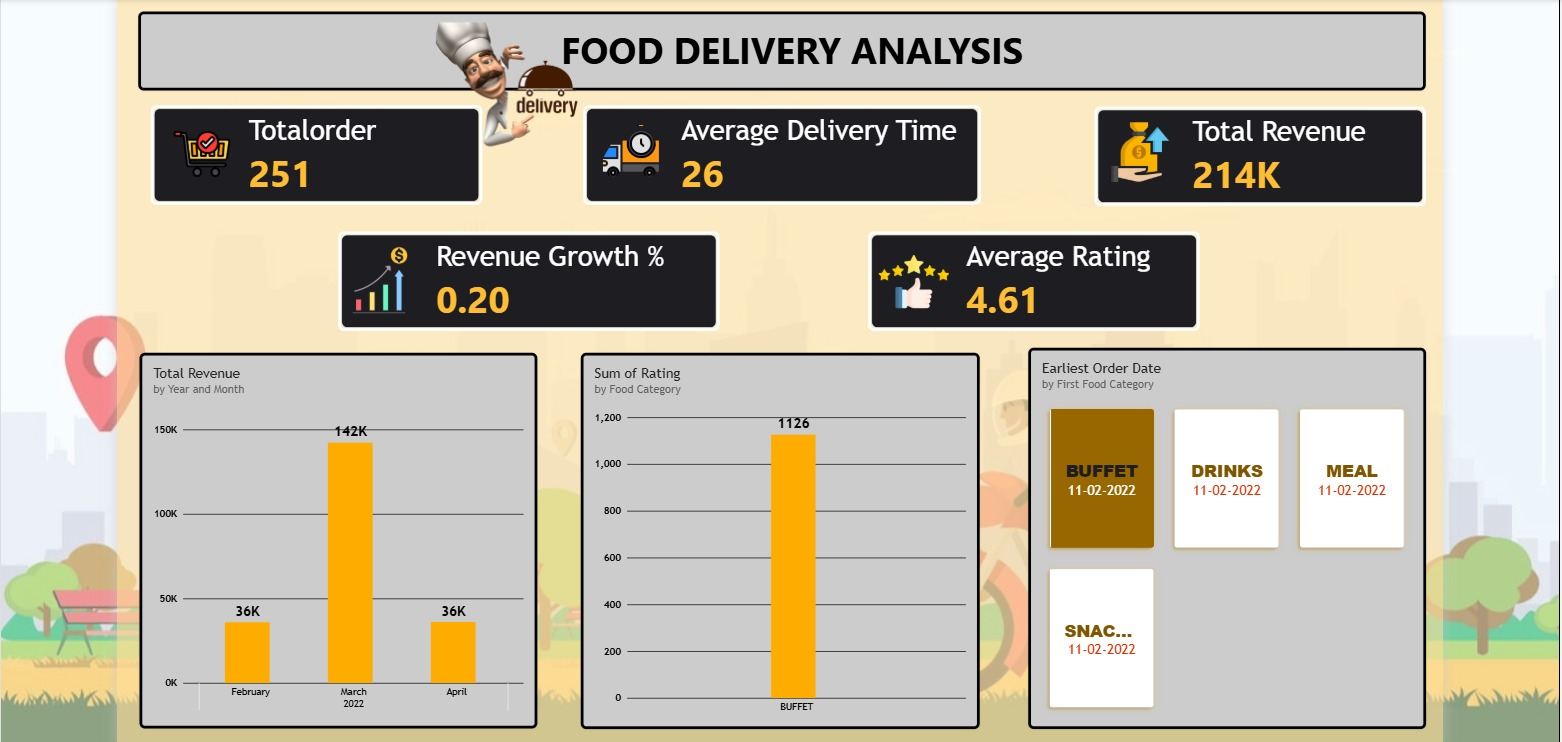

What the dashboard file says about the page in this screenshot:
{"tool":"powerbi","page":{"name":"Overview","canvas":[1920,1080],"ordinal":0},"visuals":[{"type":"cardVisual","fields":{"Data":["Delivery Table.Totalorder"]},"box":[48,128,480,144],"z":0},{"type":"cardVisual","fields":{"Data":["Delivery Table.Total Revenue"]},"box":[1408,128,480,144],"z":1000},{"type":"cardVisual","fields":{"Data":["Delivery Table.Average Rating"]},"box":[1088,336,480,144],"z":2000},{"type":"textbox","box":[31.3,18.8,1863.9,89.7],"z":3000},{"type":"clusteredColumnChart","fields":{"Category":["Order Table.Order Date.Variation.Date Hierarchy.Year","Order Table.Order Date.Variation.Date Hierarchy.Month"],"Y":["Delivery Table.Total Revenue"]},"box":[32,512,576,544],"z":4000},{"type":"clusteredColumnChart","fields":{"Category":["Order Table.Food Category"],"Y":["Sum(Delivery Table.Rating)"]},"box":[672,504,576,552],"z":5000},{"type":"advancedSlicerVisual","fields":{"Label":["Min(Order Table.Order Date)"],"Values":["Order Table.Food Category"]},"box":[1320,504,576,552],"z":6000},{"type":"cardVisual","fields":{"Data":["Delivery Table.Average Delivery Time"]},"box":[685.9,127.2,576,144],"z":7000},{"type":"cardVisual","fields":{"Data":["Calendar.Revenue Growth %"]},"box":[320,336,552,144],"z":8000},{"type":"image","box":[287.7,0,569.2,200.2],"z":9000}]}

Visuals, with their boxes on the page's 1920x1080 design canvas (x1, y1, x2, y2). These are canvas units, not pixel positions in the 1562x742 screenshot, which may show the page scaled, cropped or inside an application window:
cardVisual - Delivery Table.Totalorder: detection(48, 128, 528, 272)
cardVisual - Delivery Table.Total Revenue: detection(1408, 128, 1888, 272)
cardVisual - Delivery Table.Average Rating: detection(1088, 336, 1568, 480)
textbox: detection(31, 19, 1895, 108)
clusteredColumnChart - Order Table.Order Date.Variation.Date Hierarchy.Year x Order Table.Order Date.Variation.Date Hierarchy.Month: detection(32, 512, 608, 1056)
clusteredColumnChart - Order Table.Food Category x Sum(Delivery Table.Rating): detection(672, 504, 1248, 1056)
advancedSlicerVisual - Min(Order Table.Order Date) x Order Table.Food Category: detection(1320, 504, 1896, 1056)
cardVisual - Delivery Table.Average Delivery Time: detection(686, 127, 1262, 271)
cardVisual - Calendar.Revenue Growth %: detection(320, 336, 872, 480)
image: detection(288, 0, 857, 200)
